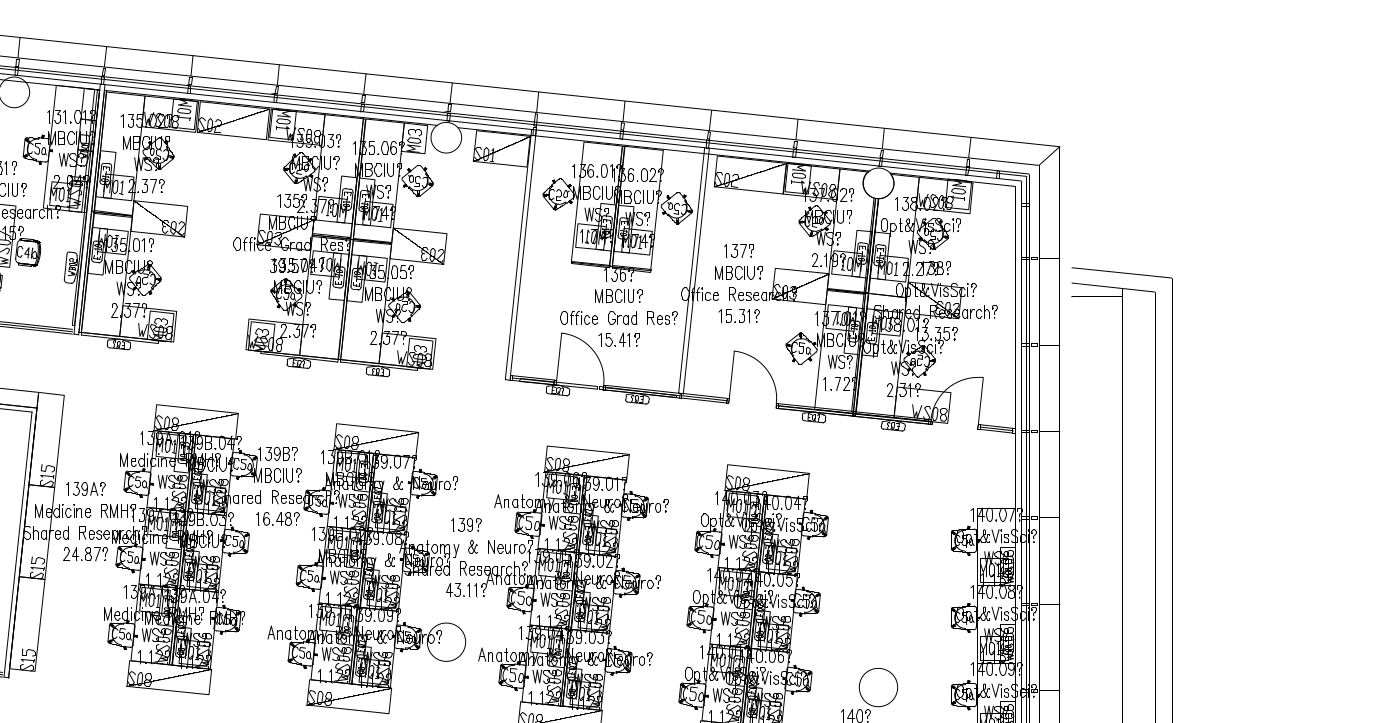door: (931, 367, 989, 436), (725, 348, 783, 417), (554, 331, 612, 400)
